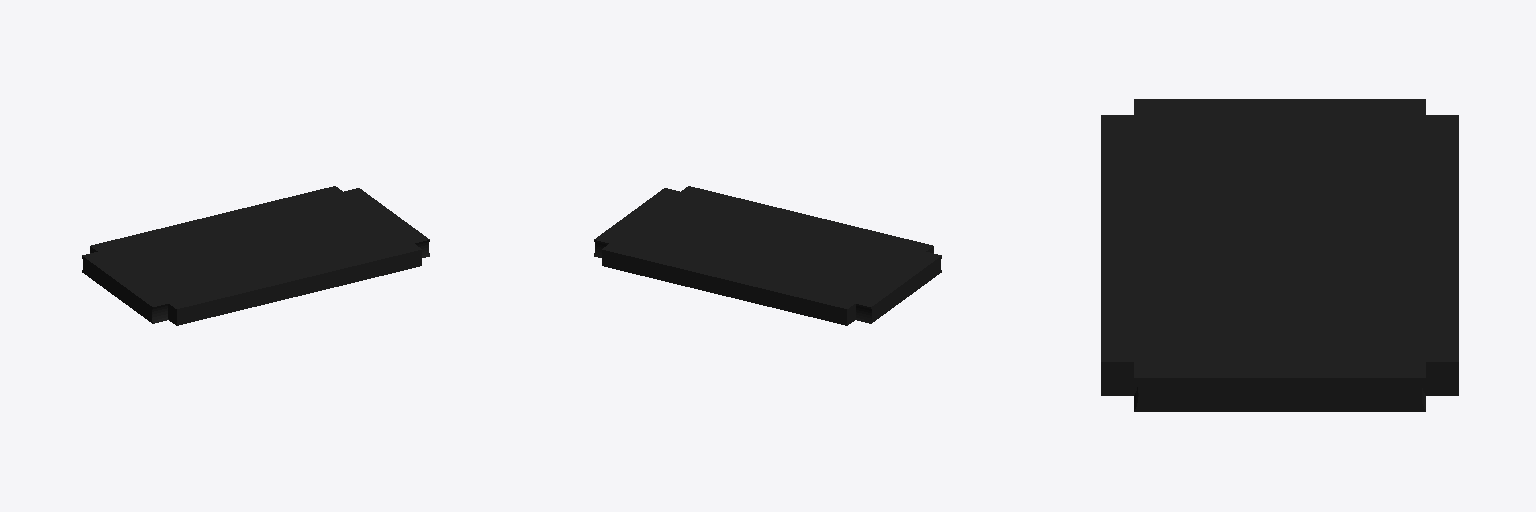
--- Facts derived from the render (not from the file) ---
The picture shows the robot from 3 angles, left to right: view 1: azimuth 30°, elevation 25°; view 2: azimuth 150°, elevation 25°; view 3: azimuth 270°, elevation 25°; orthographic projection.
Robot: victor — 29 links, 28 joints (12 revolute, 16 fixed); root link base_link; default pose: every joint at zero.
Links seen in each view (by area): view 1: base_link; view 2: base_link; view 3: base_link.
Link boxes in pixels (<box>): base_link: <box>82,186,429,325</box>; base_link: <box>594,186,941,325</box>; base_link: <box>1101,99,1458,411</box>.
Size in the robot's own frame: 0.225 by 0.125 by 0.01 metres.
9 mesh visuals loaded from 6 distinct referenced files (3 Collada DAE); not drawn: 6 (reference not matched to a file when rendering).

robot.urdf — victor:
<?xml version="1.0" encoding="utf-8"?>
<!-- =================================================================================== -->
<!-- |    This document was autogenerated by xacro from victor.urdf.xacro              | -->
<!-- |    EDITING THIS FILE BY HAND IS NOT RECOMMENDED                                 | -->
<!-- =================================================================================== -->
<robot name="victor">
  <!-- not how it is done in champ -->
  <material name="black">
    <color rgba="0.15 0.15 0.15 1.0"/>
  </material>
  <link name="base_link">
    <collision>
      <origin rpy="0 0 0" xyz="0 0 0"/>
      <geometry>
        <mesh filename="package://victor_description/meshes/base.dae" scale="1 1 1"/>
      </geometry>
    </collision>
    <visual>
      <origin rpy="0 0 0" xyz="0 0 0"/>
      <geometry>
        <mesh filename="package://victor_description/meshes/base.dae" scale="1 1 1"/>
      </geometry>
      <material name="black"/>
    </visual>
  </link>
  <link name="base_inertia">
    <inertial>
      <origin xyz="0 0 0"/>
      <mass value="2.0"/>
      <inertia ixx="0.00152083333333" ixy="0.0" ixz="0.0" iyy="0.00512083333333" iyz="0.0" izz="0.00660833333333"/>
    </inertial>
  </link>
  <joint name="base_link_to_base_inertia" type="fixed">
    <parent link="base_link"/>
    <child link="base_inertia"/>
    <origin rpy="0 0 0" xyz="0 0 0"/>
  </joint>
  <gazebo reference="base_link">
    <material>Gazebo/FlatBlack</material>
  </gazebo>
  <joint name="hokuyo_joint" type="fixed">
    <origin rpy="0 0 0" xyz="0.0 0.0 0.045"/>
    <parent link="base_link"/>
    <child link="hokuyo_frame"/>
  </joint>
  <link name="hokuyo_frame">
    <inertial>
      <mass value="0.270"/>
      <origin rpy="0 0 0" xyz="0 0 0"/>
      <inertia ixx="2.632e-4" ixy="0" ixz="0" iyy="2.632e-4" iyz="0" izz="1.62e-4"/>
    </inertial>
    <visual>
      <origin rpy="0 0 0" xyz="0 0 0"/>
      <geometry>
        <mesh filename="package://hector_sensors_description/meshes/hokuyo_utm30lx/hokuyo_utm_30lx.dae"/>
      </geometry>
    </visual>
    <collision>
      <origin rpy="0 0 0" xyz="0 0 -0.0115"/>
      <geometry>
        <box size="0.058 0.058 0.087"/>
        <!--<mesh filename="package://hector_sensors_description/meshes/hokuyo_utm30lx/hokuyo_utm_30lx.stl"/>-->
      </geometry>
    </collision>
  </link>
  <gazebo reference="hokuyo_frame">
    <sensor name="hokuyo" type="ray">
      <always_on>true</always_on>
      <update_rate>30</update_rate>
      <pose>0 0 0 0 0 0</pose>
      <visualize>false</visualize>
      <ray>
        <scan>
          <horizontal>
            <samples>1040</samples>
            <resolution>1</resolution>
            <min_angle>2.26892802759</min_angle>
            <max_angle>-2.26892802759</max_angle>
          </horizontal>
        </scan>
        <range>
          <min>0.2</min>
          <max>30.0</max>
          <resolution>0.01</resolution>
        </range>
        <noise>
          <type>gaussian</type>
          <mean>0.0</mean>
          <stddev>0.004</stddev>
        </noise>
      </ray>
      <plugin filename="libgazebo_ros_laser.so" name="gazebo_ros_hokuyo_controller">
        <topicName>scan</topicName>
        <frameName>hokuyo_frame</frameName>
      </plugin>
    </sensor>
  </gazebo>
  <joint name="camera_joint" type="fixed">
    <origin rpy="0 0 0" xyz="0.0875 0.0 -0.015"/>
    <parent link="base_link"/>
    <child link="camera_link"/>
  </joint>
  <link name="camera_link">
    <inertial>
      <mass value="0.200"/>
      <origin rpy="0 0 0" xyz="0 0 0"/>
      <inertia ixx="5.8083e-4" ixy="0" ixz="0" iyy="3.0833e-5" iyz="0" izz="5.9083e-4"/>
    </inertial>
    <visual>
      <origin rpy="0 0 0" xyz="0 0 0"/>
      <geometry>
        <mesh filename="package://hector_sensors_description/meshes/asus_camera/asus_camera_simple.dae"/>
      </geometry>
    </visual>
    <!--        
       <collision>
          <origin xyz="0 0 0" rpy="0 0 0" />
          <geometry>
            <box size="0.035 0.185 0.025"/>
          </geometry>
        </collision>
        -->
    <collision>
      <origin rpy="0 0 0" xyz="0 0 0"/>
      <geometry>
        <mesh filename="package://hector_sensors_description/meshes/asus_camera/asus_camera_simple.dae"/>
      </geometry>
    </collision>
  </link>
  <joint name="camera_depth_joint" type="fixed">
    <origin rpy="0 0 0" xyz="0.0 0.049 0.0"/>
    <parent link="camera_link"/>
    <child link="camera_depth_frame"/>
  </joint>
  <link name="camera_depth_frame"/>
  <joint name="camera_depth_optical_joint" type="fixed">
    <origin rpy="-1.57079632679 0.0 -1.57079632679" xyz="0 0 0"/>
    <parent link="camera_depth_frame"/>
    <child link="camera_depth_optical_frame"/>
  </joint>
  <link name="camera_depth_optical_frame"/>
  <joint name="camera_rgb_joint" type="fixed">
    <origin rpy="0 0 0" xyz="0.0 0.022 0.0"/>
    <parent link="camera_link"/>
    <child link="camera_rgb_frame"/>
  </joint>
  <link name="camera_rgb_frame"/>
  <joint name="camera_rgb_optical_joint" type="fixed">
    <origin rpy="-1.57079632679 0.0 -1.57079632679" xyz="0 0 0"/>
    <parent link="camera_rgb_frame"/>
    <child link="camera_rgb_optical_frame"/>
  </joint>
  <link name="camera_rgb_optical_frame"/>
  <!-- ASUS Xtion PRO camera for simulation -->
  <gazebo reference="camera_depth_frame">
    <sensor name="camera" type="depth">
      <update_rate>20</update_rate>
      <camera>
        <horizontal_fov>1.09606677025</horizontal_fov>
        <image>
          <format>R8G8B8</format>
          <width>640</width>
          <height>480</height>
        </image>
        <clip>
          <near>0.5</near>
          <far>9</far>
        </clip>
      </camera>
      <plugin filename="libgazebo_ros_openni_kinect.so" name="camera_camera_controller">
        <imageTopicName>camera/rgb/image_raw</imageTopicName>
        <cameraInfoTopicName>camera/rgb/camera_info</cameraInfoTopicName>
        <depthImageTopicName>camera/depth/image_raw</depthImageTopicName>
        <depthImageCameraInfoTopicName>camera/depth/camera_info</depthImageCameraInfoTopicName>
        <pointCloudTopicName>camera/depth/points</pointCloudTopicName>
        <frameName>camera_depth_optical_frame</frameName>
      </plugin>
    </sensor>
  </gazebo>
  <gazebo>
    <plugin filename="libhector_gazebo_ros_imu.so" name="imu_controller">
      <updateRate>50.0</updateRate>
      <bodyName>imu_link</bodyName>
      <topicName>imu/data</topicName>
      <accelDrift>0.005 0.005 0.005</accelDrift>
      <accelGaussianNoise>0.005 0.005 0.005</accelGaussianNoise>
      <rateDrift>0.005 0.005 0.005 </rateDrift>
      <rateGaussianNoise>0.005 0.005 0.005 </rateGaussianNoise>
      <headingDrift>0.005</headingDrift>
      <headingGaussianNoise>0.005</headingGaussianNoise>
    </plugin>
  </gazebo>
  <link name="imu_link">
    <inertial>
      <mass value="0.001"/>
      <origin rpy="0 0 0" xyz="0 0 0"/>
      <inertia ixx="1e-09" ixy="0.0" ixz="0.0" iyy="1e-09" iyz="0.0" izz="1e-09"/>
    </inertial>
  </link>
  <joint name="imu_joint" type="fixed">
    <parent link="base_link"/>
    <child link="imu_link"/>
  </joint>
  <!-- <xacro:include filename="$(find velodyne_description)/urdf/VLP-16.urdf.xacro"/>
        <xacro:VLP-16 parent="${base_name}" name="velodyne" topic="velodyne_points" hz="10" samples="1024" gpu="false" lasers="16" max_range="100">
	<origin xyz="0 0 ${base_height / 2}" rpy="0 0 0" />
        </xacro:VLP-16>

        <xacro:include filename="$(find champ_arm_description)/urdf/champ_arm.urdf.xacro" />
        <xacro:champ_arm parent="${base_name}">
	<origin xyz="0.07 0.0 ${base_height / 2}" rpy="0 0 0"/>
        </xacro:champ_arm> -->
  <link name="lf_hip_debug_link"/>
  <link name="lf_hip_link">
    <inertial>
      <mass value="0.25"/>
      <inertia ixx="3.75e-05" ixy="0.0" ixz="0.0" iyy="5.20833333333e-05" iyz="0.0" izz="5.20833333333e-05"/>
    </inertial>
    <collision>
      <origin rpy="0 0 0" xyz="0 0 0"/>
      <geometry>
        <mesh filename="package://victor_description/meshes/hip.dae" scale="0.001 0.001 0.001"/>
      </geometry>
    </collision>
    <visual>
      <origin rpy="0 0 0" xyz="0 0 0"/>
      <geometry>
        <mesh filename="package://victor_description/meshes/hip.dae" scale="0.001 0.001 0.001"/>
      </geometry>
      <material name="black"/>
    </visual>
  </link>
  <gazebo reference="lf_hip_link">
    <material>Gazebo/FlatBlack</material>
  </gazebo>
  <link name="lf_upper_leg_link">
    <inertial>
      <origin xyz="0 0 -0.05"/>
      <mass value="0.125"/>
      <inertia ixx="0.000105208333333" ixy="0.0" ixz="0.0" iyy="0.000113541666667" iyz="0.0" izz="1.04166666667e-05"/>
    </inertial>
    <collision>
      <origin rpy="0 0 0" xyz="0 0 0"/>
      <geometry>
        <mesh filename="package://victor_description/meshes/upper_leg.dae" scale="0.001 0.001 0.001"/>
      </geometry>
    </collision>
    <visual>
      <origin rpy="0 0 0" xyz="0 0 0"/>
      <geometry>
        <mesh filename="package://victor_description/meshes/upper_leg.dae" scale="0.001 0.001 0.001"/>
      </geometry>
      <material name="black"/>
    </visual>
  </link>
  <gazebo reference="lf_upper_leg_link">
    <material>Gazebo/FlatBlack</material>
  </gazebo>
  <link name="lf_lower_leg_link">
    <inertial>
      <origin xyz="0 0 -0.051"/>
      <mass value="0.125"/>
      <inertia ixx="0.000109416666667" ixy="0.0" ixz="0.0" iyy="0.00011775" iyz="0.0" izz="1.04166666667e-05"/>
    </inertial>
    <collision>
      <origin rpy="0 0 0" xyz="0 0 0"/>
      <geometry>
        <mesh filename="package://victor_description/meshes/lower_leg.dae" scale="0.001 0.001 0.001"/>
      </geometry>
    </collision>
    <visual>
      <origin rpy="0 0 0" xyz="0 0 0"/>
      <geometry>
        <mesh filename="package://victor_description/meshes/lower_leg.dae" scale="0.001 0.001 0.001"/>
      </geometry>
      <material name="black"/>
    </visual>
  </link>
  <gazebo reference="lf_lower_leg_link">
    <kp>1000000.0</kp>
    <kd>1.0</kd>
    <mu1>0.8</mu1>
    <mu2>0.8</mu2>
    <maxVel>0.0</maxVel>
    <minDepth>0.001</minDepth>
    <material>Gazebo/FlatBlack</material>
  </gazebo>
  <link name="lf_foot_link"/>
  <joint name="lf_debug_joint" type="fixed">
    <parent link="base_link"/>
    <child link="lf_hip_debug_link"/>
    <origin rpy="0 0 0" xyz="0.1125 0.0475 0"/>
  </joint>
  <joint name="lf_hip_joint" type="revolute">
    <axis xyz="1 0 0"/>
    <limit effort="25" lower="-3.14159265359" upper="3.14159265359" velocity="1.5"/>
    <parent link="base_link"/>
    <child link="lf_hip_link"/>
    <origin rpy="0 0 0" xyz="0.1125 0.0475 0"/>
  </joint>
  <joint name="lf_upper_leg_joint" type="revolute">
    <axis xyz="0 1 0"/>
    <limit effort="25" lower="-3.14159265359" upper="3.14159265359" velocity="1.5"/>
    <parent link="lf_hip_link"/>
    <child link="lf_upper_leg_link"/>
    <origin rpy="0 0 0" xyz="0 0.015 0"/>
  </joint>
  <joint name="lf_lower_leg_joint" type="revolute">
    <axis xyz="0 1 0"/>
    <limit effort="25" lower="-3.14159265359" upper="3.14159265359" velocity="1.5"/>
    <parent link="lf_upper_leg_link"/>
    <child link="lf_lower_leg_link"/>
    <origin rpy="0 0 0" xyz="0 0 -0.1"/>
  </joint>
  <joint name="lf_foot_joint" type="fixed">
    <parent link="lf_lower_leg_link"/>
    <child link="lf_foot_link"/>
    <!-- <origin xyz="0.00325 0 -${lower_leg_to_foot_distance}" rpy="0 0 0" /> -->
    <origin rpy="0 0 0" xyz="0 0 -0.102"/>
  </joint>
  <transmission name="lf_hip_joint_trans">
    <type>transmission_interface/SimpleTransmission</type>
    <joint name="lf_hip_joint">
      <hardwareInterface>hardware_interface/EffortJointInterface</hardwareInterface>
    </joint>
    <actuator name="lf_hip_joint_motor">
      <hardwareInterface>hardware_interface/EffortJointInterface</hardwareInterface>
      <mechanicalReduction>1</mechanicalReduction>
    </actuator>
  </transmission>
  <transmission name="lf_upper_leg_joint_trans">
    <type>transmission_interface/SimpleTransmission</type>
    <joint name="lf_upper_leg_joint">
      <hardwareInterface>hardware_interface/EffortJointInterface</hardwareInterface>
    </joint>
    <actuator name="lf_upper_leg_joint_motor">
      <hardwareInterface>hardware_interface/EffortJointInterface</hardwareInterface>
      <mechanicalReduction>1</mechanicalReduction>
    </actuator>
  </transmission>
  <transmission name="lf_lower_leg_joint_trans">
    <type>transmission_interface/SimpleTransmission</type>
    <joint name="lf_lower_leg_joint">
      <hardwareInterface>hardware_interface/EffortJointInterface</hardwareInterface>
    </joint>
    <actuator name="lf_lower_joint_motor">
      <hardwareInterface>hardware_interface/EffortJointInterface</hardwareInterface>
      <mechanicalReduction>1</mechanicalReduction>
    </actuator>
  </transmission>
  <link name="lh_hip_debug_link"/>
  <link name="lh_hip_link">
    <inertial>
      <mass value="0.25"/>
      <inertia ixx="3.75e-05" ixy="0.0" ixz="0.0" iyy="5.20833333333e-05" iyz="0.0" izz="5.20833333333e-05"/>
    </inertial>
    <collision>
      <origin rpy="0 0 0" xyz="0 0 0"/>
      <geometry>
        <mesh filename="package://victor_description/meshes/hip.dae" scale="0.001 0.001 0.001"/>
      </geometry>
    </collision>
    <visual>
      <origin rpy="0 0 0" xyz="0 0 0"/>
      <geometry>
        <mesh filename="package://victor_description/meshes/hip.dae" scale="0.001 0.001 0.001"/>
      </geometry>
      <material name="black"/>
    </visual>
  </link>
  <gazebo reference="lh_hip_link">
    <material>Gazebo/FlatBlack</material>
  </gazebo>
  <link name="lh_upper_leg_link">
    <inertial>
      <origin xyz="0 0 -0.05"/>
      <mass value="0.125"/>
      <inertia ixx="0.000105208333333" ixy="0.0" ixz="0.0" iyy="0.000113541666667" iyz="0.0" izz="1.04166666667e-05"/>
    </inertial>
    <collision>
      <origin rpy="0 0 0" xyz="0 0 0"/>
      <geometry>
        <mesh filename="package://victor_description/meshes/upper_leg.dae" scale="0.001 0.001 0.001"/>
      </geometry>
    </collision>
    <visual>
      <origin rpy="0 0 0" xyz="0 0 0"/>
      <geometry>
        <mesh filename="package://victor_description/meshes/upper_leg.dae" scale="0.001 0.001 0.001"/>
      </geometry>
      <material name="black"/>
    </visual>
  </link>
  <gazebo reference="lh_upper_leg_link">
    <material>Gazebo/FlatBlack</material>
  </gazebo>
  <link name="lh_lower_leg_link">
    <inertial>
      <origin xyz="0 0 -0.051"/>
      <mass value="0.125"/>
      <inertia ixx="0.000109416666667" ixy="0.0" ixz="0.0" iyy="0.00011775" iyz="0.0" izz="1.04166666667e-05"/>
    </inertial>
    <collision>
      <origin rpy="0 0 0" xyz="0 0 0"/>
      <geometry>
        <mesh filename="package://victor_description/meshes/lower_leg.dae" scale="0.001 0.001 0.001"/>
      </geometry>
    </collision>
    <visual>
      <origin rpy="0 0 0" xyz="0 0 0"/>
      <geometry>
        <mesh filename="package://victor_description/meshes/lower_leg.dae" scale="0.001 0.001 0.001"/>
      </geometry>
      <material name="black"/>
    </visual>
  </link>
  <gazebo reference="lh_lower_leg_link">
    <kp>1000000.0</kp>
    <kd>1.0</kd>
    <mu1>0.8</mu1>
    <mu2>0.8</mu2>
    <maxVel>0.0</maxVel>
    <minDepth>0.001</minDepth>
    <material>Gazebo/FlatBlack</material>
  </gazebo>
  <link name="lh_foot_link"/>
  <joint name="lh_debug_joint" type="fixed">
    <parent link="base_link"/>
    <child link="lh_hip_debug_link"/>
    <origin rpy="0 0 0" xyz="-0.1125 0.0475 0"/>
  </joint>
  <joint name="lh_hip_joint" type="revolute">
    <axis xyz="1 0 0"/>
    <limit effort="25" lower="-3.14159265359" upper="3.14159265359" velocity="1.5"/>
    <parent link="base_link"/>
    <child link="lh_hip_link"/>
    <origin rpy="0 0 0" xyz="-0.1125 0.0475 0"/>
  </joint>
  <joint name="lh_upper_leg_joint" type="revolute">
    <axis xyz="0 1 0"/>
    <limit effort="25" lower="-3.14159265359" upper="3.14159265359" velocity="1.5"/>
    <parent link="lh_hip_link"/>
    <child link="lh_upper_leg_link"/>
    <origin rpy="0 0 0" xyz="0 0.015 0"/>
  </joint>
  <joint name="lh_lower_leg_joint" type="revolute">
    <axis xyz="0 1 0"/>
    <limit effort="25" lower="-3.14159265359" upper="3.14159265359" velocity="1.5"/>
    <parent link="lh_upper_leg_link"/>
    <child link="lh_lower_leg_link"/>
    <origin rpy="0 0 0" xyz="0 0 -0.1"/>
  </joint>
  <joint name="lh_foot_joint" type="fixed">
    <parent link="lh_lower_leg_link"/>
    <child link="lh_foot_link"/>
    <!-- <origin xyz="0.00325 0 -${lower_leg_to_foot_distance}" rpy="0 0 0" /> -->
    <origin rpy="0 0 0" xyz="0 0 -0.102"/>
  </joint>
  <transmission name="lh_hip_joint_trans">
    <type>transmission_interface/SimpleTransmission</type>
    <joint name="lh_hip_joint">
      <hardwareInterface>hardware_interface/EffortJointInterface</hardwareInterface>
    </joint>
    <actuator name="lh_hip_joint_motor">
      <hardwareInterface>hardware_interface/EffortJointInterface</hardwareInterface>
      <mechanicalReduction>1</mechanicalReduction>
    </actuator>
  </transmission>
  <transmission name="lh_upper_leg_joint_trans">
    <type>transmission_interface/SimpleTransmission</type>
    <joint name="lh_upper_leg_joint">
      <hardwareInterface>hardware_interface/EffortJointInterface</hardwareInterface>
    </joint>
    <actuator name="lh_upper_leg_joint_motor">
      <hardwareInterface>hardware_interface/EffortJointInterface</hardwareInterface>
      <mechanicalReduction>1</mechanicalReduction>
    </actuator>
  </transmission>
  <transmission name="lh_lower_leg_joint_trans">
    <type>transmission_interface/SimpleTransmission</type>
    <joint name="lh_lower_leg_joint">
      <hardwareInterface>hardware_interface/EffortJointInterface</hardwareInterface>
    </joint>
    <actuator name="lh_lower_joint_motor">
      <hardwareInterface>hardware_interface/EffortJointInterface</hardwareInterface>
      <mechanicalReduction>1</mechanicalReduction>
    </actuator>
  </transmission>
  <link name="rf_hip_debug_link"/>
  <link name="rf_hip_link">
    <inertial>
      <mass value="0.25"/>
      <inertia ixx="3.75e-05" ixy="0.0" ixz="0.0" iyy="5.20833333333e-05" iyz="0.0" izz="5.20833333333e-05"/>
    </inertial>
    <collision>
      <origin rpy="0 0 0" xyz="0 0 0"/>
      <geometry>
        <mesh filename="package://victor_description/meshes/hip.dae" scale="0.001 0.001 0.001"/>
      </geometry>
    </collision>
    <visual>
      <origin rpy="0 0 0" xyz="0 0 0"/>
      <geometry>
        <mesh filename="package://victor_description/meshes/hip.dae" scale="0.001 0.001 0.001"/>
      </geometry>
      <material name="black"/>
    </visual>
  </link>
  <gazebo reference="rf_hip_link">
    <material>Gazebo/FlatBlack</material>
  </gazebo>
  <link name="rf_upper_leg_link">
    <inertial>
      <origin xyz="0 0 -0.05"/>
      <mass value="0.125"/>
      <inertia ixx="0.000105208333333" ixy="0.0" ixz="0.0" iyy="0.000113541666667" iyz="0.0" izz="1.04166666667e-05"/>
    </inertial>
    <collision>
      <origin rpy="0 0 0" xyz="0 0 0"/>
      <geometry>
        <mesh filename="package://victor_description/meshes/upper_leg.dae" scale="0.001 0.001 0.001"/>
      </geometry>
    </collision>
    <visual>
      <origin rpy="0 0 0" xyz="0 0 0"/>
      <geometry>
        <mesh filename="package://victor_description/meshes/upper_leg.dae" scale="0.001 0.001 0.001"/>
      </geometry>
      <material name="black"/>
    </visual>
  </link>
  <gazebo reference="rf_upper_leg_link">
    <material>Gazebo/FlatBlack</material>
  </gazebo>
  <link name="rf_lower_leg_link">
    <inertial>
      <origin xyz="0 0 -0.051"/>
      <mass value="0.125"/>
      <inertia ixx="0.000109416666667" ixy="0.0" ixz="0.0" iyy="0.00011775" iyz="0.0" izz="1.04166666667e-05"/>
    </inertial>
    <collision>
      <origin rpy="0 0 0" xyz="0 0 0"/>
      <geometry>
        <mesh filename="package://victor_description/meshes/lower_leg.dae" scale="0.001 0.001 0.001"/>
      </geometry>
    </collision>
    <visual>
      <origin rpy="0 0 0" xyz="0 0 0"/>
      <geometry>
        <mesh filename="package://victor_description/meshes/lower_leg.dae" scale="0.001 0.001 0.001"/>
      </geometry>
      <material name="black"/>
    </visual>
  </link>
  <gazebo reference="rf_lower_leg_link">
    <kp>1000000.0</kp>
    <kd>1.0</kd>
    <mu1>0.8</mu1>
    <mu2>0.8</mu2>
    <maxVel>0.0</maxVel>
    <minDepth>0.001</minDepth>
    <material>Gazebo/FlatBlack</material>
  </gazebo>
  <link name="rf_foot_link"/>
  <joint name="rf_debug_joint" type="fixed">
    <parent link="base_link"/>
    <child link="rf_hip_debug_link"/>
    <origin rpy="0 0 0" xyz="0.1125 -0.0475 0"/>
  </joint>
  <joint name="rf_hip_joint" type="revolute">
    <axis xyz="1 0 0"/>
    <limit effort="25" lower="-3.14159265359" upper="3.14159265359" velocity="1.5"/>
    <parent link="base_link"/>
    <child link="rf_hip_link"/>
    <origin rpy="0 0 0" xyz="0.1125 -0.0475 0"/>
  </joint>
  <joint name="rf_upper_leg_joint" type="revolute">
    <axis xyz="0 1 0"/>
    <limit effort="25" lower="-3.14159265359" upper="3.14159265359" velocity="1.5"/>
    <parent link="rf_hip_link"/>
    <child link="rf_upper_leg_link"/>
    <origin rpy="0 0 0" xyz="0 -0.015 0"/>
  </joint>
  <joint name="rf_lower_leg_joint" type="revolute">
    <axis xyz="0 1 0"/>
    <limit effort="25" lower="-3.14159265359" upper="3.14159265359" velocity="1.5"/>
    <parent link="rf_upper_leg_link"/>
    <child link="rf_lower_leg_link"/>
    <origin rpy="0 0 0" xyz="0 0 -0.1"/>
  </joint>
  <joint name="rf_foot_joint" type="fixed">
    <parent link="rf_lower_leg_link"/>
    <child link="rf_foot_link"/>
    <!-- <origin xyz="0.00325 0 -${lower_leg_to_foot_distance}" rpy="0 0 0" /> -->
    <origin rpy="0 0 0" xyz="0 0 -0.102"/>
  </joint>
  <transmission name="rf_hip_joint_trans">
    <type>transmission_interface/SimpleTransmission</type>
    <joint name="rf_hip_joint">
      <hardwareInterface>hardware_interface/EffortJointInterface</hardwareInterface>
    </joint>
    <actuator name="rf_hip_joint_motor">
      <hardwareInterface>hardware_interface/EffortJointInterface</hardwareInterface>
      <mechanicalReduction>1</mechanicalReduction>
    </actuator>
  </transmission>
  <transmission name="rf_upper_leg_joint_trans">
    <type>transmission_interface/SimpleTransmission</type>
    <joint name="rf_upper_leg_joint">
      <hardwareInterface>hardware_interface/EffortJointInterface</hardwareInterface>
    </joint>
    <actuator name="rf_upper_leg_joint_motor">
      <hardwareInterface>hardware_interface/EffortJointInterface</hardwareInterface>
      <mechanicalReduction>1</mechanicalReduction>
    </actuator>
  </transmission>
  <transmission name="rf_lower_leg_joint_trans">
    <type>transmission_interface/SimpleTransmission</type>
    <joint name="rf_lower_leg_joint">
      <hardwareInterface>hardware_interface/EffortJointInterface</hardwareInterface>
    </joint>
    <actuator name="rf_lower_joint_motor">
      <hardwareInterface>hardware_interface/EffortJointInterface</hardwareInterface>
      <mechanicalReduction>1</mechanicalReduction>
    </actuator>
  </transmission>
  <link name="rh_hip_debug_link"/>
  <link name="rh_hip_link">
    <inertial>
      <mass value="0.25"/>
      <inertia ixx="3.75e-05" ixy="0.0" ixz="0.0" iyy="5.20833333333e-05" iyz="0.0" izz="5.20833333333e-05"/>
    </inertial>
    <collision>
      <origin rpy="0 0 0" xyz="0 0 0"/>
      <geometry>
        <mesh filename="package://victor_description/meshes/hip.dae" scale="0.001 0.001 0.001"/>
      </geometry>
    </collision>
    <visual>
      <origin rpy="0 0 0" xyz="0 0 0"/>
      <geometry>
        <mesh filename="package://victor_description/meshes/hip.dae" scale="0.001 0.001 0.001"/>
      </geometry>
      <material name="black"/>
    </visual>
  </link>
  <gazebo reference="rh_hip_link">
    <material>Gazebo/FlatBlack</material>
  </gazebo>
  <link name="rh_upper_leg_link">
    <inertial>
      <origin xyz="0 0 -0.05"/>
      <mass value="0.125"/>
      <inertia ixx="0.000105208333333" ixy="0.0" ixz="0.0" iyy="0.000113541666667" iyz="0.0" izz="1.04166666667e-05"/>
    </inertial>
    <collision>
      <origin rpy="0 0 0" xyz="0 0 0"/>
      <geometry>
        <mesh filename="package://victor_description/meshes/upper_leg.dae" scale="0.001 0.001 0.001"/>
      </geometry>
    </collision>
    <visual>
      <origin rpy="0 0 0" xyz="0 0 0"/>
      <geometry>
        <mesh filename="package://victor_description/meshes/upper_leg.dae" scale="0.001 0.001 0.001"/>
      </geometry>
      <material name="black"/>
    </visual>
  </link>
  <gazebo reference="rh_upper_leg_link">
    <material>Gazebo/FlatBlack</material>
  </gazebo>
  <link name="rh_lower_leg_link">
    <inertial>
      <origin xyz="0 0 -0.051"/>
      <mass value="0.125"/>
      <inertia ixx="0.000109416666667" ixy="0.0" ixz="0.0" iyy="0.00011775" iyz="0.0" izz="1.04166666667e-05"/>
    </inertial>
    <collision>
      <origin rpy="0 0 0" xyz="0 0 0"/>
      <geometry>
        <mesh filename="package://victor_description/meshes/lower_leg.dae" scale="0.001 0.001 0.001"/>
      </geometry>
    </collision>
    <visual>
      <origin rpy="0 0 0" xyz="0 0 0"/>
      <geometry>
        <mesh filename="package://victor_description/meshes/lower_leg.dae" scale="0.001 0.001 0.001"/>
      </geometry>
      <material name="black"/>
    </visual>
  </link>
  <gazebo reference="rh_lower_leg_link">
    <kp>1000000.0</kp>
    <kd>1.0</kd>
    <mu1>0.8</mu1>
    <mu2>0.8</mu2>
    <maxVel>0.0</maxVel>
    <minDepth>0.001</minDepth>
    <material>Gazebo/FlatBlack</material>
  </gazebo>
  <link name="rh_foot_link"/>
  <joint name="rh_debug_joint" type="fixed">
    <parent link="base_link"/>
    <child link="rh_hip_debug_link"/>
    <origin rpy="0 0 0" xyz="-0.1125 -0.0475 0"/>
  </joint>
  <joint name="rh_hip_joint" type="revolute">
    <axis xyz="1 0 0"/>
    <limit effort="25" lower="-3.14159265359" upper="3.14159265359" velocity="1.5"/>
    <parent link="base_link"/>
    <child link="rh_hip_link"/>
    <origin rpy="0 0 0" xyz="-0.1125 -0.0475 0"/>
  </joint>
  <joint name="rh_upper_leg_joint" type="revolute">
    <axis xyz="0 1 0"/>
    <limit effort="25" lower="-3.14159265359" upper="3.14159265359" velocity="1.5"/>
    <parent link="rh_hip_link"/>
    <child link="rh_upper_leg_link"/>
    <origin rpy="0 0 0" xyz="0 -0.015 0"/>
  </joint>
  <joint name="rh_lower_leg_joint" type="revolute">
    <axis xyz="0 1 0"/>
    <limit effort="25" lower="-3.14159265359" upper="3.14159265359" velocity="1.5"/>
    <parent link="rh_upper_leg_link"/>
    <child link="rh_lower_leg_link"/>
    <origin rpy="0 0 0" xyz="0 0 -0.1"/>
  </joint>
  <joint name="rh_foot_joint" type="fixed">
    <parent link="rh_lower_leg_link"/>
    <child link="rh_foot_link"/>
    <!-- <origin xyz="0.00325 0 -${lower_leg_to_foot_distance}" rpy="0 0 0" /> -->
    <origin rpy="0 0 0" xyz="0 0 -0.102"/>
  </joint>
  <transmission name="rh_hip_joint_trans">
    <type>transmission_interface/SimpleTransmission</type>
    <joint name="rh_hip_joint">
      <hardwareInterface>hardware_interface/EffortJointInterface</hardwareInterface>
    </joint>
    <actuator name="rh_hip_joint_motor">
      <hardwareInterface>hardware_interface/EffortJointInterface</hardwareInterface>
      <mechanicalReduction>1</mechanicalReduction>
    </actuator>
  </transmission>
  <transmission name="rh_upper_leg_joint_trans">
    <type>transmission_interface/SimpleTransmission</type>
    <joint name="rh_upper_leg_joint">
      <hardwareInterface>hardware_interface/EffortJointInterface</hardwareInterface>
    </joint>
    <actuator name="rh_upper_leg_joint_motor">
      <hardwareInterface>hardware_interface/EffortJointInterface</hardwareInterface>
      <mechanicalReduction>1</mechanicalReduction>
    </actuator>
  </transmission>
  <transmission name="rh_lower_leg_joint_trans">
    <type>transmission_interface/SimpleTransmission</type>
    <joint name="rh_lower_leg_joint">
      <hardwareInterface>hardware_interface/EffortJointInterface</hardwareInterface>
    </joint>
    <actuator name="rh_lower_joint_motor">
      <hardwareInterface>hardware_interface/EffortJointInterface</hardwareInterface>
      <mechanicalReduction>1</mechanicalReduction>
    </actuator>
  </transmission>
  <gazebo>
    <plugin filename="libgazebo_ros_p3d.so" name="p3d_base_controller">
      <alwaysOn>true</alwaysOn>
      <updateRate>10.0</updateRate>
      <bodyName>base_link</bodyName>
      <topicName>odom/ground_truth</topicName>
      <gaussianNoise>0.01</gaussianNoise>
      <frameName>world</frameName>
      <xyzOffsets>0 0 0</xyzOffsets>
      <rpyOffsets>0 0 0</rpyOffsets>
    </plugin>
  </gazebo>
  <gazebo>
    <plugin filename="libgazebo_ros_control.so" name="gazebo_ros_control">
      <legacyModeNS>true</legacyModeNS>
    </plugin>
  </gazebo>
</robot>
